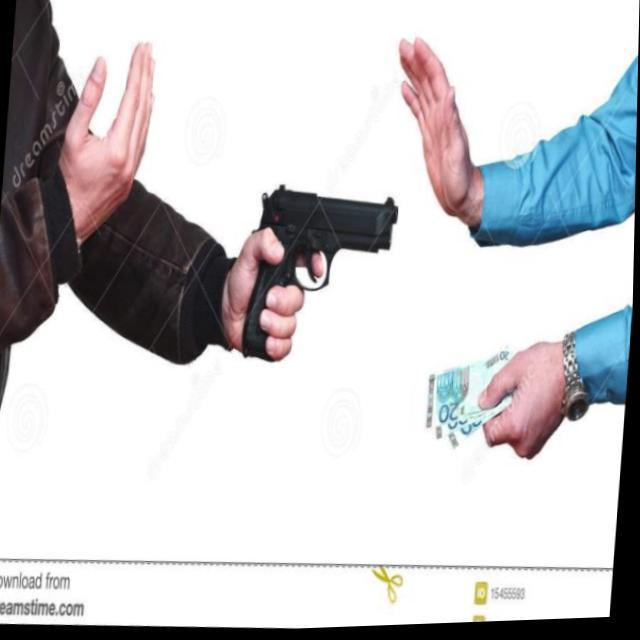weapon: (240, 180, 401, 370)
